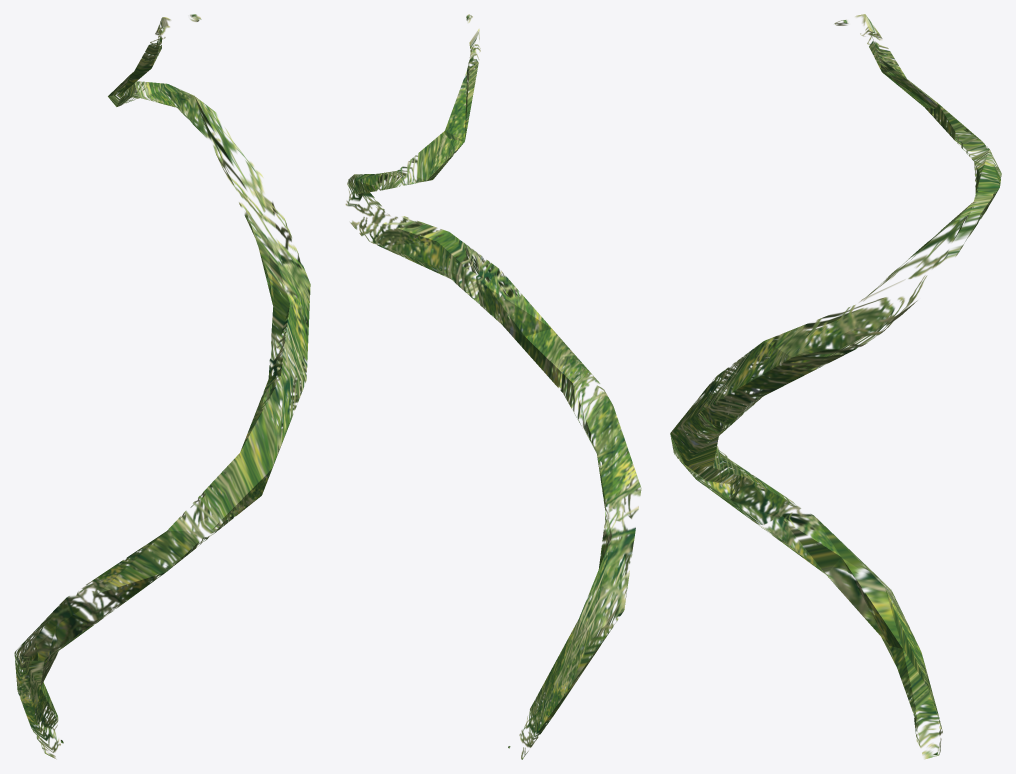
Rendered from Island_2_BigTree_1_Liquen.gltf.
3 renders of one model, left to right at view 1: azimuth 30°, elevation 25°; view 2: azimuth 150°, elevation 25°; view 3: azimuth 270°, elevation 25°, orthographic. The views are drawn at different scales.
Parts seen in each view (by area): view 1: Island_2_BigTree_1_Liquen; view 2: Island_2_BigTree_1_Liquen; view 3: Island_2_BigTree_1_Liquen.
Part boxes in pixels (box(x1,y1,x2,y2)): Island_2_BigTree_1_Liquen: box(14, 14, 310, 759); Island_2_BigTree_1_Liquen: box(345, 14, 641, 759); Island_2_BigTree_1_Liquen: box(670, 14, 1001, 759).
Bounding box in the file's own units: 10.66 × 27.89 × 10.59.
Materials: 1 (1 with a texture image).
